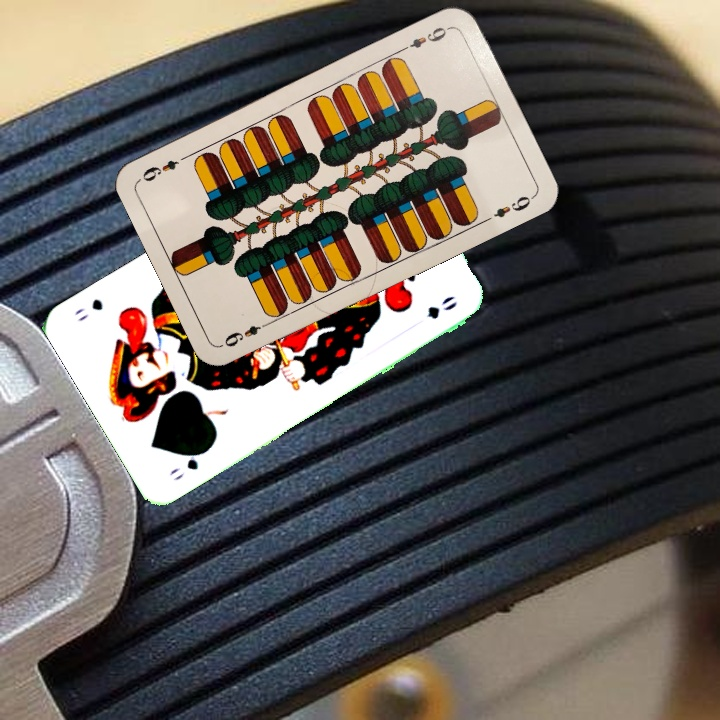E9: (397, 22, 453, 54), (220, 317, 274, 350)
GO: (164, 444, 212, 483)
